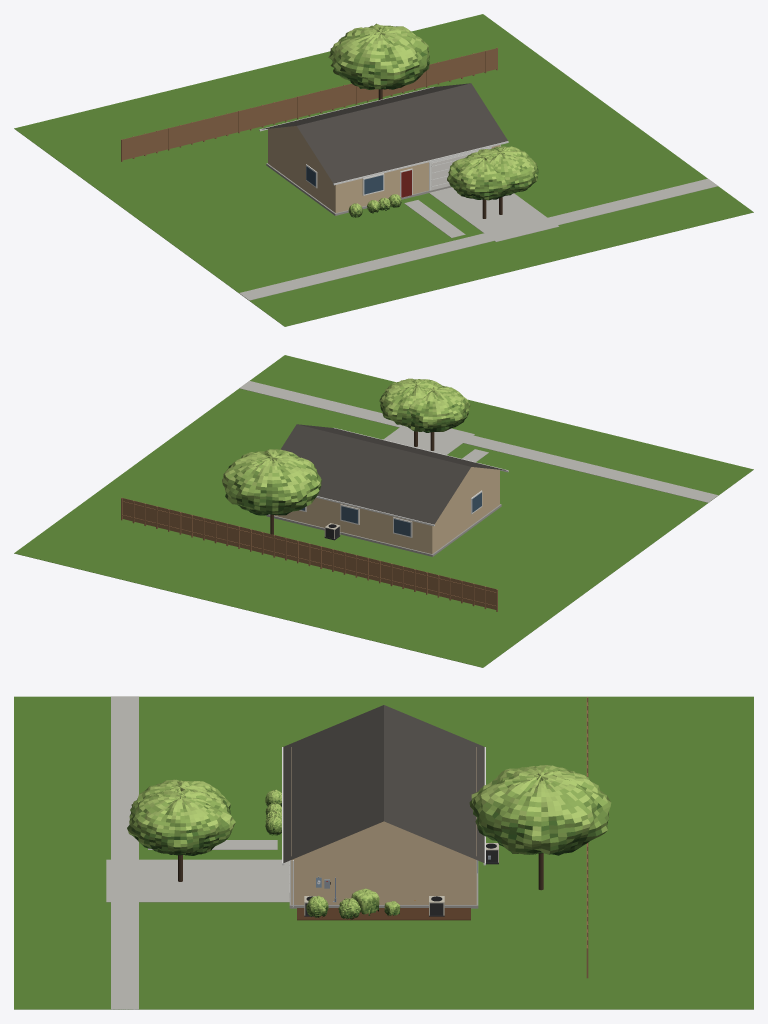
File: home_12_pre_install.obj
3 views of the same model, one above another, from view 1: azimuth 30°, elevation 25°; view 2: azimuth 150°, elevation 25°; view 3: azimuth 270°, elevation 25° (orthographic). The views are drawn at different scales.
Parts seen in each view (by area): view 1: yard, house, tree_2, tree_3, tree_1; view 2: yard, house, tree_2, tree_3, tree_1; view 3: yard, house, tree_2, tree_1, mulch_bed_side, tree_3, bush_boxwood_4.
Part boxes in pixels (x1,y1,x2,y2): yard: (14, 14, 753, 326); house: (259, 83, 508, 215); tree_2: (328, 23, 429, 99); tree_3: (447, 151, 512, 218); tree_1: (478, 146, 538, 214); yard: (14, 355, 753, 667); house: (266, 424, 508, 556); tree_2: (222, 449, 321, 534); tree_3: (406, 385, 470, 450); tree_1: (379, 378, 442, 446); yard: (14, 696, 753, 1009); house: (282, 705, 485, 908); tree_2: (469, 765, 611, 890); tree_1: (127, 789, 235, 881); mulch_bed_side: (297, 908, 470, 920); tree_3: (130, 779, 230, 814); bush_boxwood_4: (351, 888, 379, 915).
Size of the model in its own units: 40 by 6.83 by 40.
